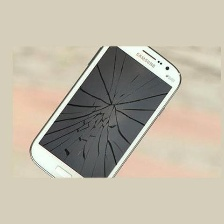phone: (25, 25, 186, 200)
